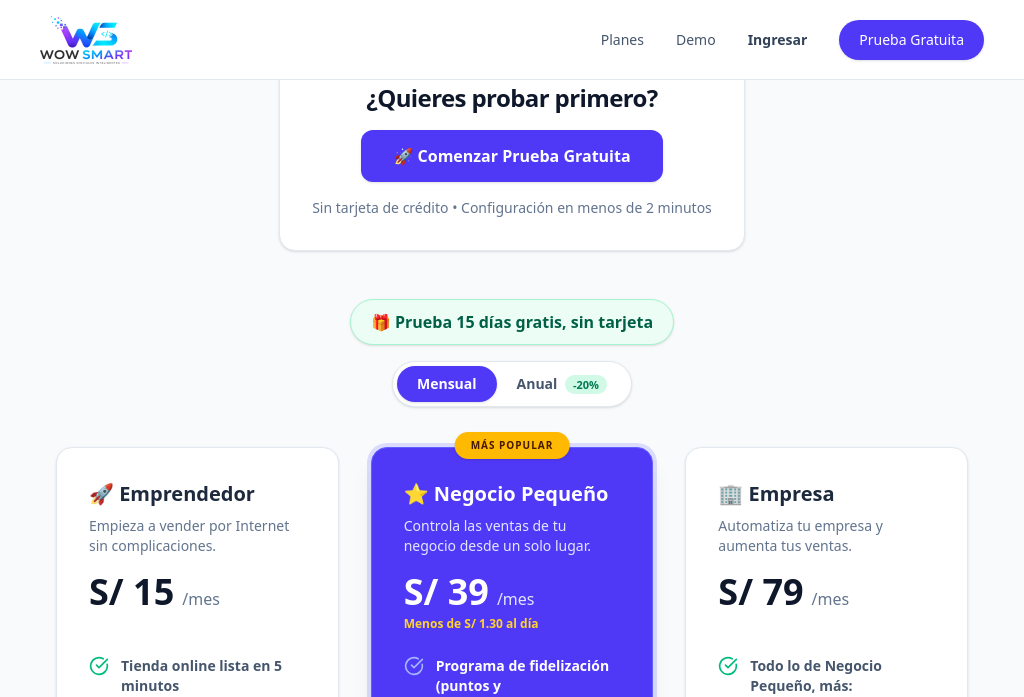
it: Landing page › el selector anual aplica 20% (S/ 12, 31.20, 63.20)
(page scrolled)
Click the radio button labelled "Anual -20%".
click(562, 384)  # box [496,366,627,402]
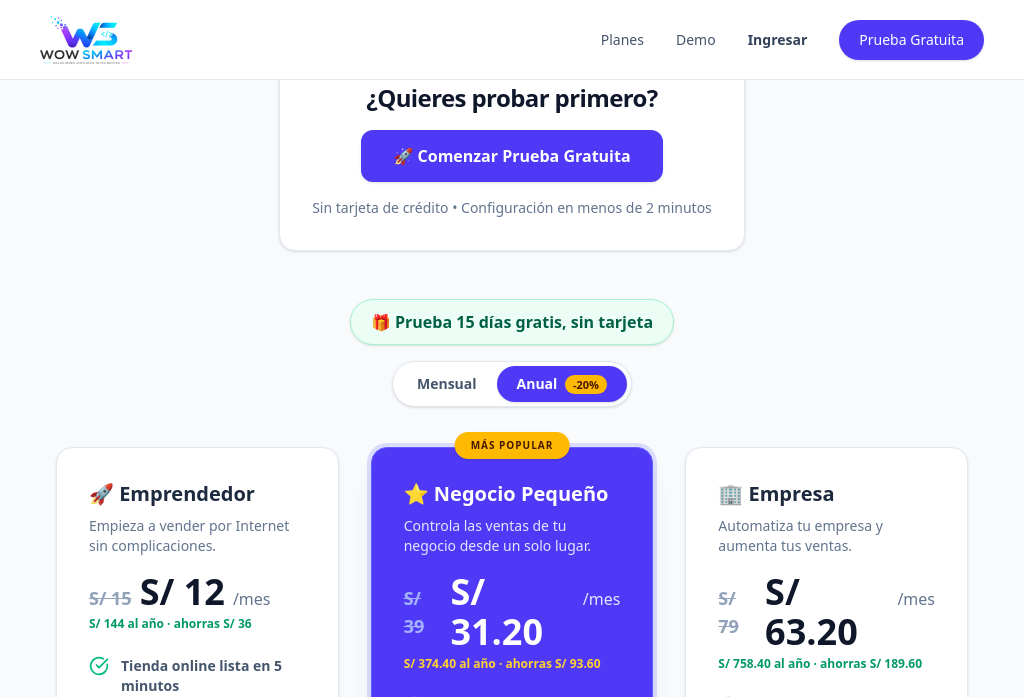
Result: the text with test id "precio-emprendedor" reads "S/ 12" at [140,572,225,612]
Result: the text with test id "precio-negocio" reads "S/ 31.20" at [450,567,543,656]
Result: the text with test id "precio-empresa" reads "S/ 63.20" at [765,567,858,656]
